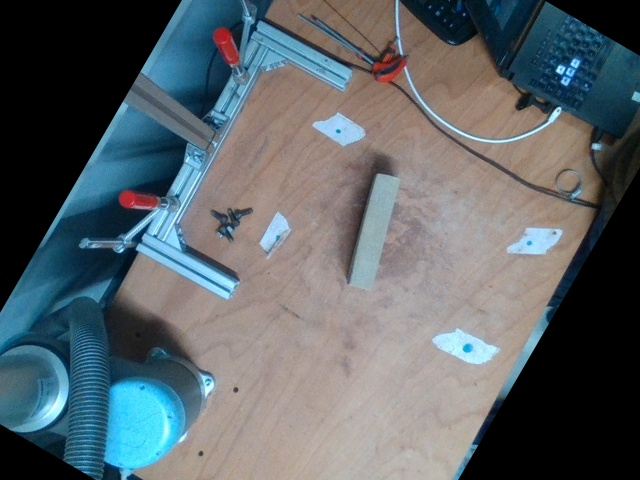brick-side: (352, 174, 396, 289)
